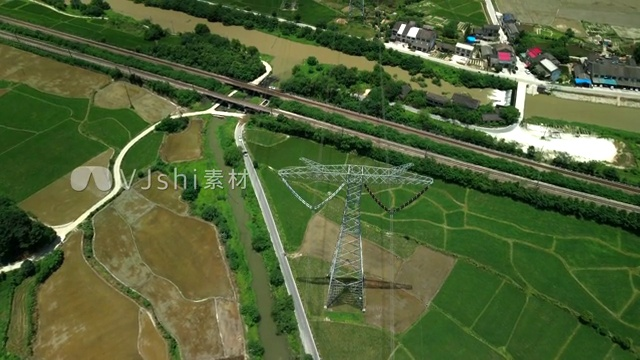tower_body: (268, 149, 439, 314)
tower_foot: (323, 265, 368, 313)
tower_head: (271, 152, 435, 188)
